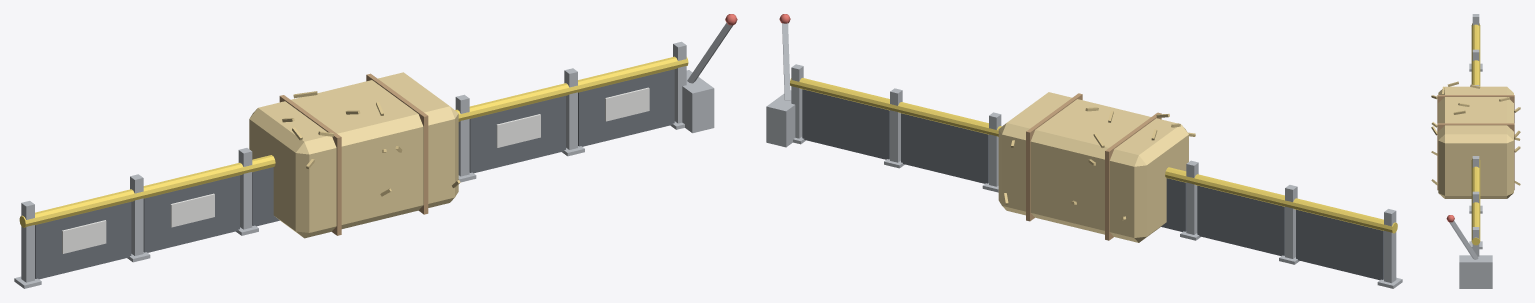
Rendered from mx_extras.glb.
The picture shows the model from 3 angles, left to right: view 1: azimuth 30°, elevation 25°; view 2: azimuth 150°, elevation 25°; view 3: azimuth 270°, elevation 25°; orthographic projection. The views are drawn at different scales.
Parts seen in each view (by area): view 1: mx_gate_mesh, mx_hay_mesh; view 2: mx_gate_mesh, mx_hay_mesh; view 3: mx_hay_mesh, mx_gate_mesh.
Boxes of the visible parts, <box> form: mx_gate_mesh: <box>14,14,737,288</box>; mx_hay_mesh: <box>249,72,460,238</box>; mx_gate_mesh: <box>766,14,1402,288</box>; mx_hay_mesh: <box>998,92,1195,242</box>; mx_hay_mesh: <box>1431,81,1520,198</box>; mx_gate_mesh: <box>1446,14,1492,288</box>.
Bounding box in the file's own units: 6.42 × 1.02 × 1.07.
